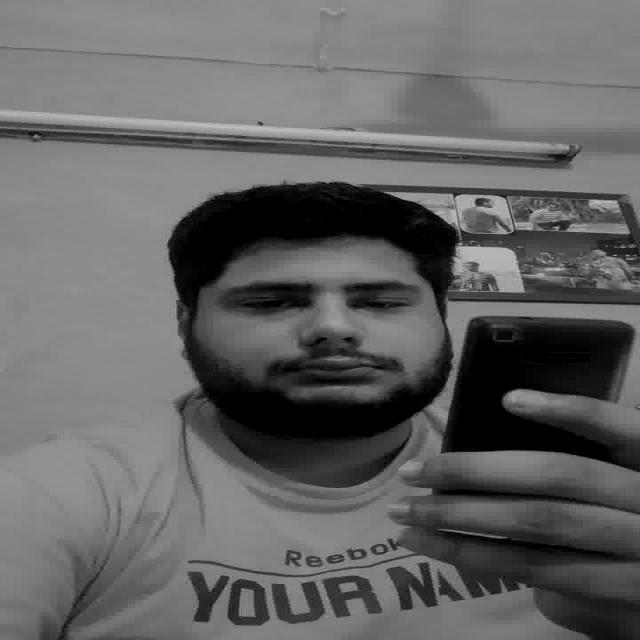fake: (440, 311, 628, 463)
real: (187, 226, 450, 406)
